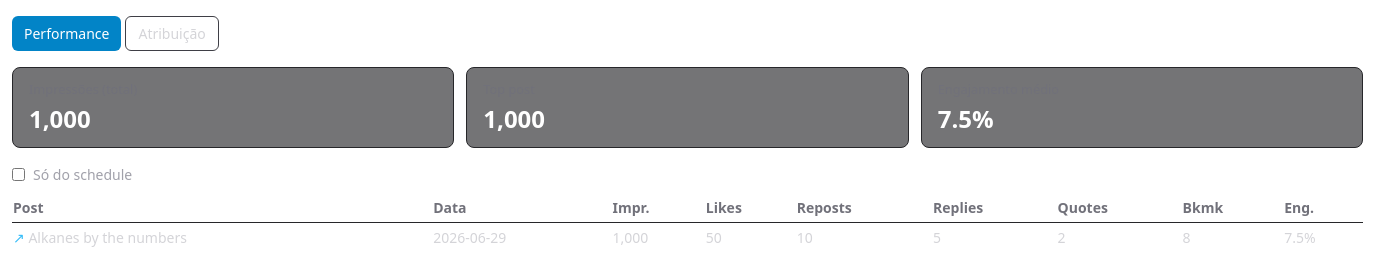
Test case: XAnalyticsClient › switches to the Attribution view and shows the caveat + deltas
Click the button "Atribuição". click: (172, 34)
box: 125,16 -> 219,51
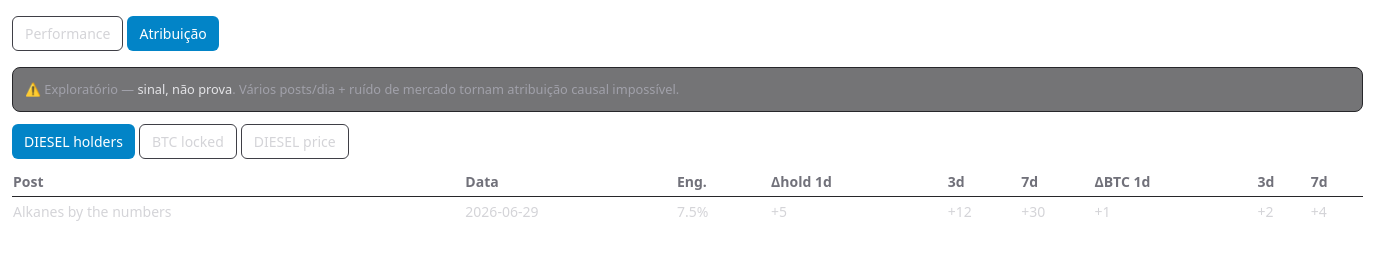
Expected: the text "sinal, não prova" is shown, 138,80 -> 232,98
Expected: the text "+12" is shown, 947,197 -> 1020,226
